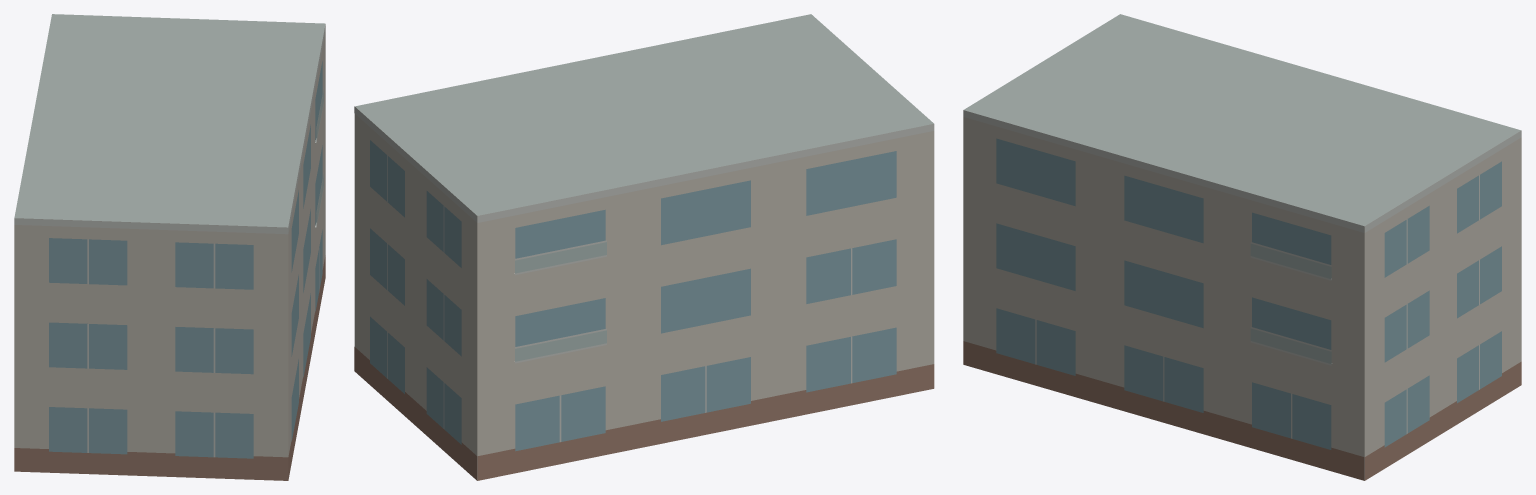
File: survey-upis-32946007.glb
The picture shows the model from 3 angles, left to right: view 1: azimuth 30°, elevation 25°; view 2: azimuth 150°, elevation 25°; view 3: azimuth 270°, elevation 25°; orthographic projection. The views are drawn at different scales.
Parts seen in each view (by area): view 1: survey-upis-32946007.tmp; view 2: survey-upis-32946007.tmp; view 3: survey-upis-32946007.tmp.
Part boxes in pixels (box(x1,y1,x2,y2)): survey-upis-32946007.tmp: box(14, 14, 325, 480); survey-upis-32946007.tmp: box(354, 14, 934, 480); survey-upis-32946007.tmp: box(963, 14, 1521, 480).
Size of the model in its own units: 16.37 by 9.15 by 18.19.
